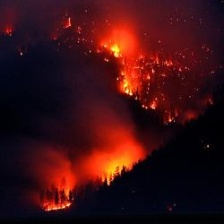fire: (98, 154, 133, 185), (117, 73, 140, 99), (101, 41, 129, 61), (39, 197, 76, 211)
